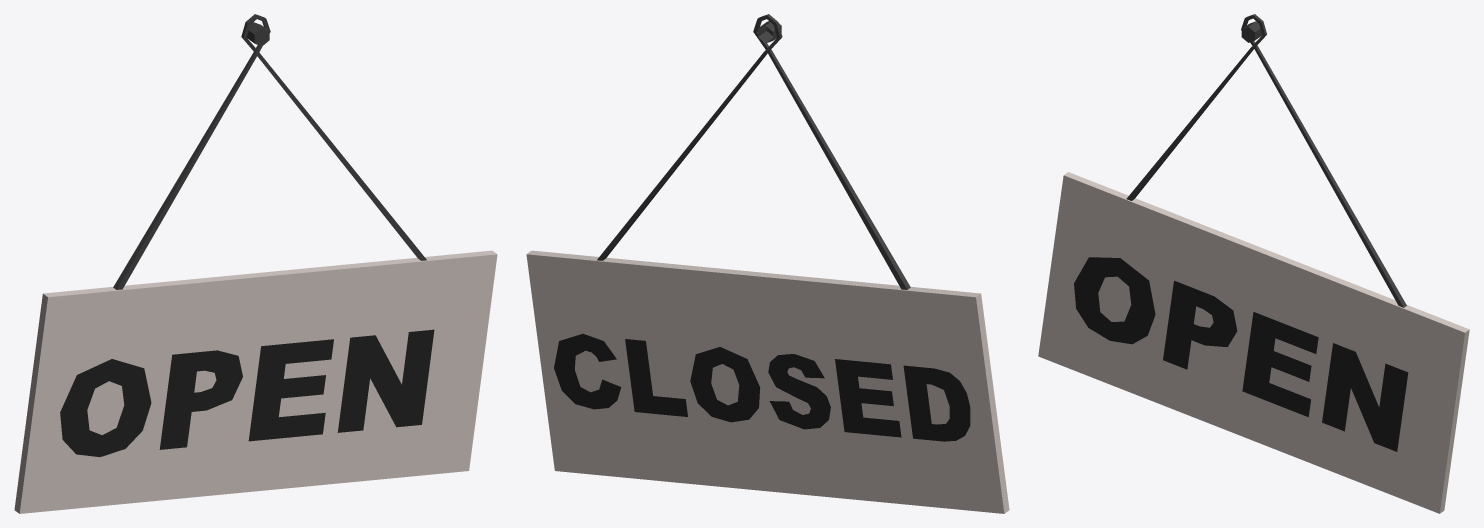
File: Shop_open_closed.fbx
3 renders of one model, left to right at view 1: azimuth 30°, elevation 25°; view 2: azimuth 150°, elevation 25°; view 3: azimuth 330°, elevation 25°, orthographic. The views are drawn at different scales.
Parts seen in each view (by area): view 1: Shop Open_or_closed; view 2: Shop Open_or_closed; view 3: Shop Open_or_closed.
Boxes of the visible parts, <box> form: Shop Open_or_closed: <box>14,14,497,513</box>; Shop Open_or_closed: <box>526,14,1009,513</box>; Shop Open_or_closed: <box>1038,14,1469,513</box>.
Bounding box in the file's own units: 45.41 × 45.92 × 1.51.
